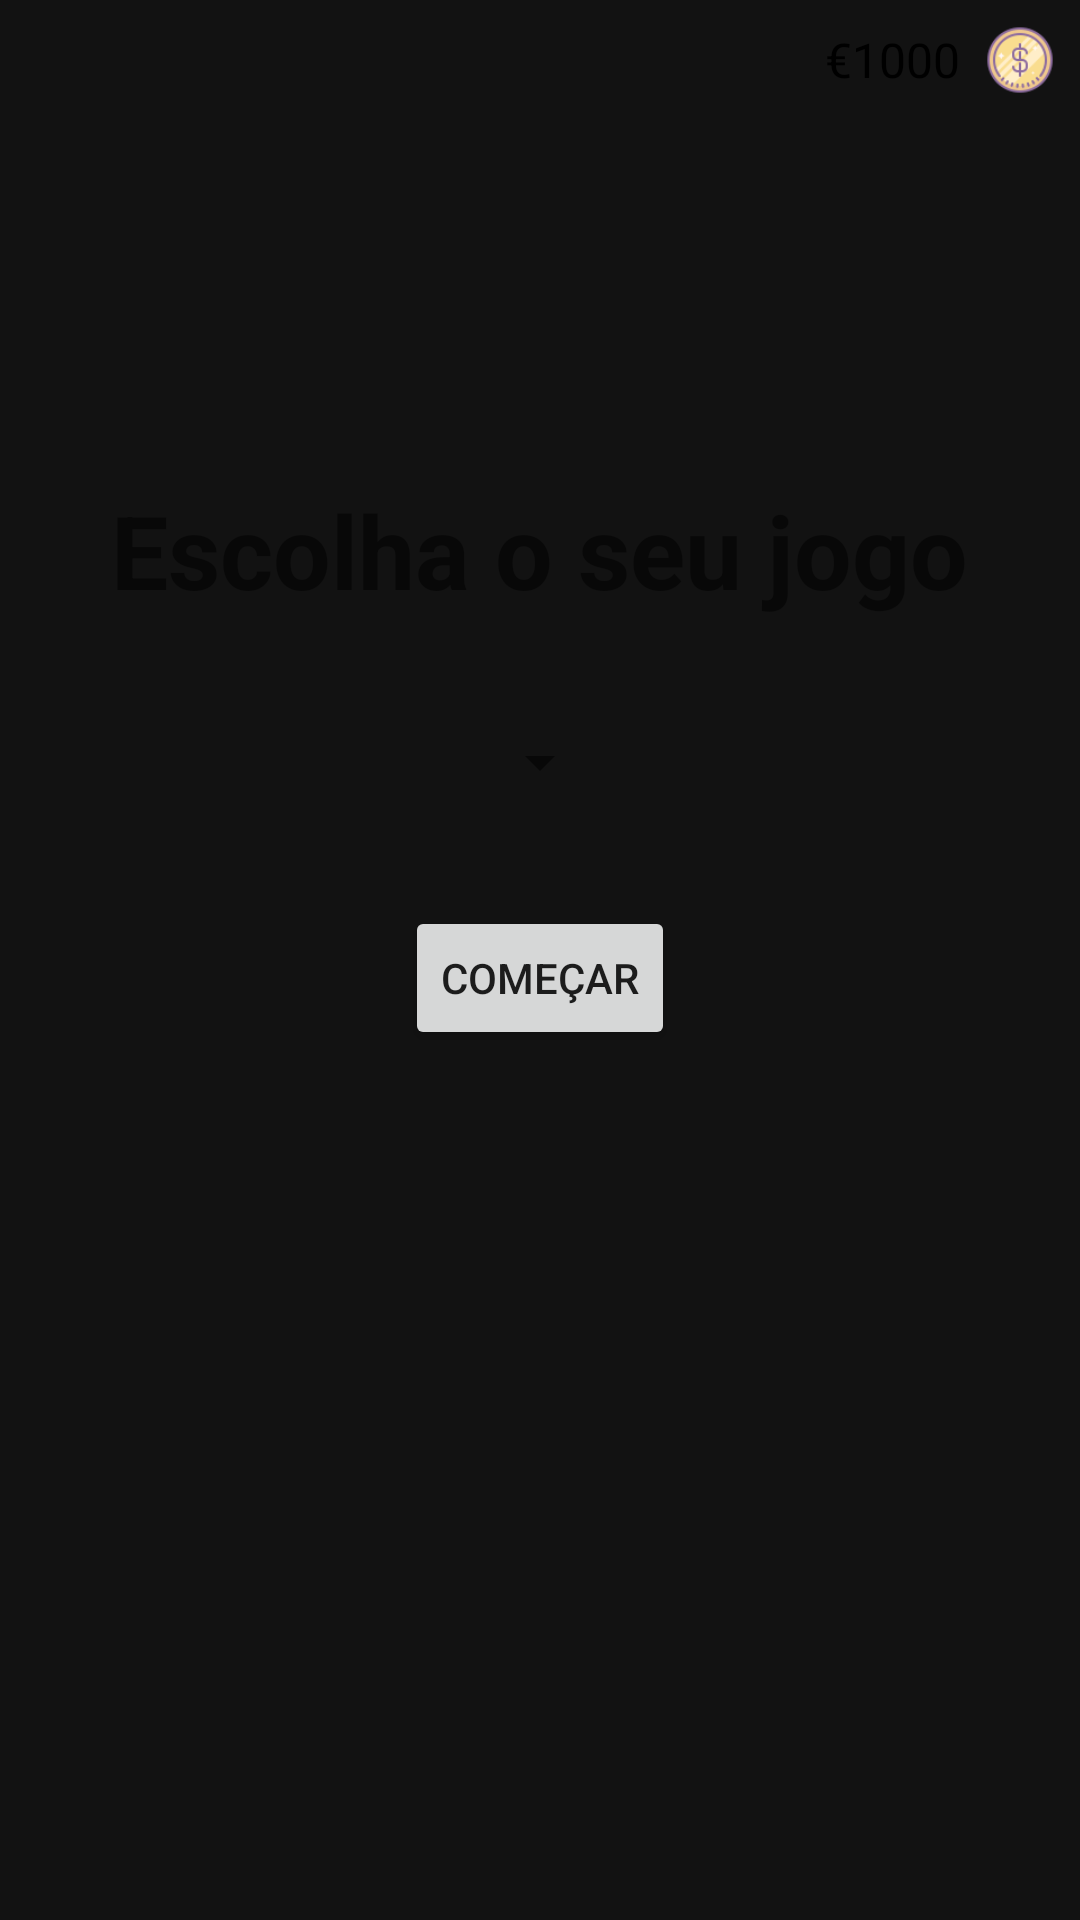

Icons on this 1080w x 1920h Android screen, each with its box as (x1, y1, x2, y2):
Carregar Saldo: (987, 27, 1053, 93)
